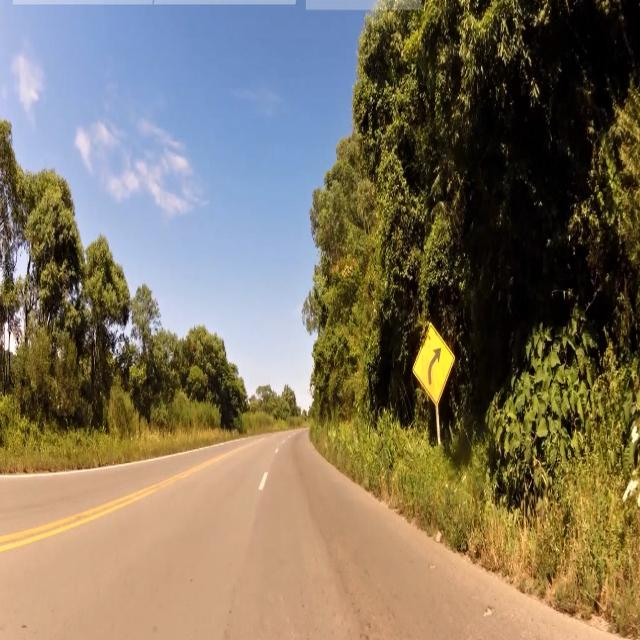A-2b: (412, 321, 453, 411)
